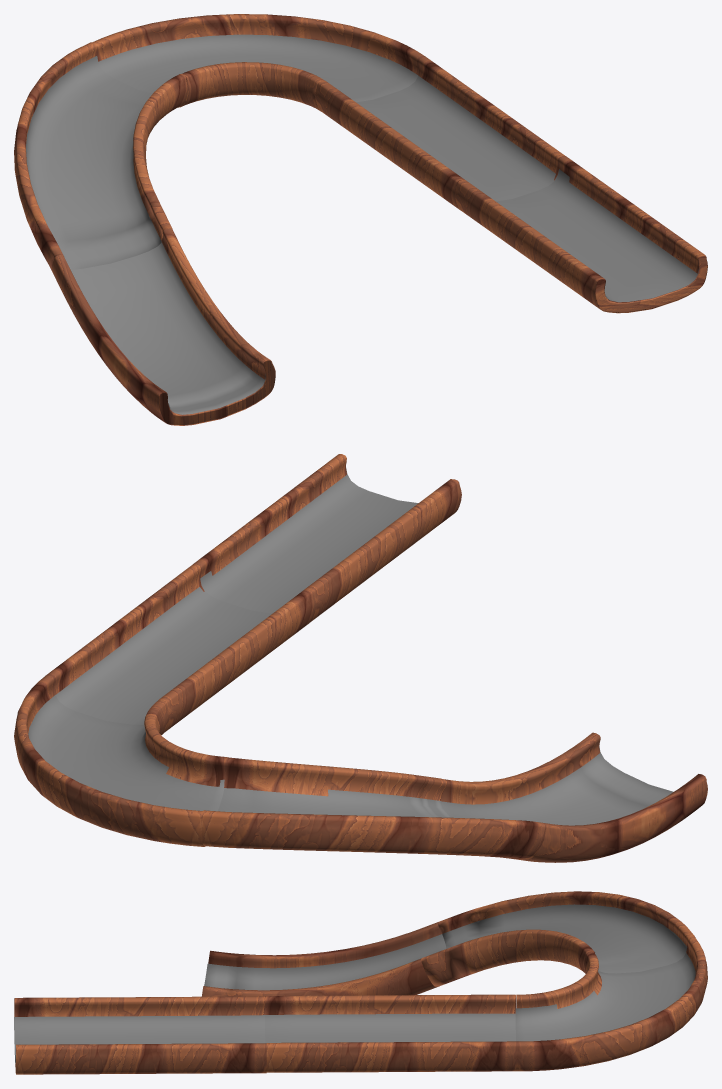
The model's file is slider+combine.fbx.
3 renders of one model, top to bottom at view 1: azimuth 30°, elevation 25°; view 2: azimuth 150°, elevation 25°; view 3: azimuth 270°, elevation 25°, orthographic. The views are drawn at different scales.
Visible parts, largest first — view 1: water, block3, block1, block4, block2, block5; view 2: water, block5, block3, block4, block2, block1; view 3: water, block1, block2, block5, block3, block4.
Part boxes in pixels (x1,y1,x2,y2): water: (26, 34, 699, 414); block3: (93, 14, 425, 111); block1: (455, 156, 707, 313); block4: (52, 228, 275, 425); block2: (315, 56, 564, 210); block5: (14, 42, 187, 272); water: (28, 468, 673, 825); block5: (201, 757, 546, 859); block3: (14, 674, 226, 846); block4: (441, 732, 707, 862); block2: (47, 564, 315, 732); block1: (193, 454, 461, 622); water: (14, 904, 695, 1063); block1: (14, 996, 266, 1074); block2: (265, 994, 517, 1072); block5: (421, 891, 695, 986); block3: (516, 936, 707, 1071); block4: (202, 922, 442, 996).
Bounding box in the file's own units: 224 × 72.8 × 330.
Materials: 2 (1 with a texture image).
